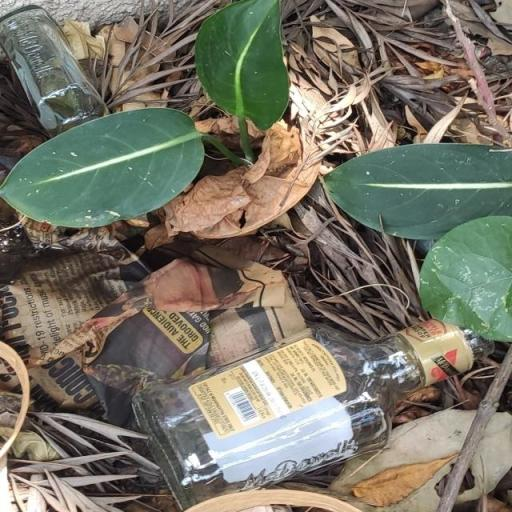glass: (109, 300, 512, 511), (0, 3, 109, 143)
